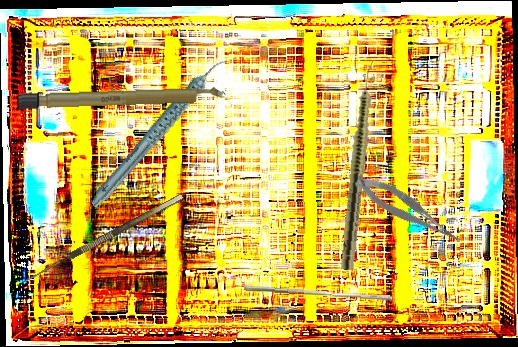Handpiece: (66, 56, 254, 211), (339, 58, 379, 271)
Hook Surgical: (15, 193, 189, 296)
Micro Scissor: (351, 164, 465, 258)
Pusher: (243, 285, 393, 302)
Scalpel Handle: (15, 86, 229, 111)
